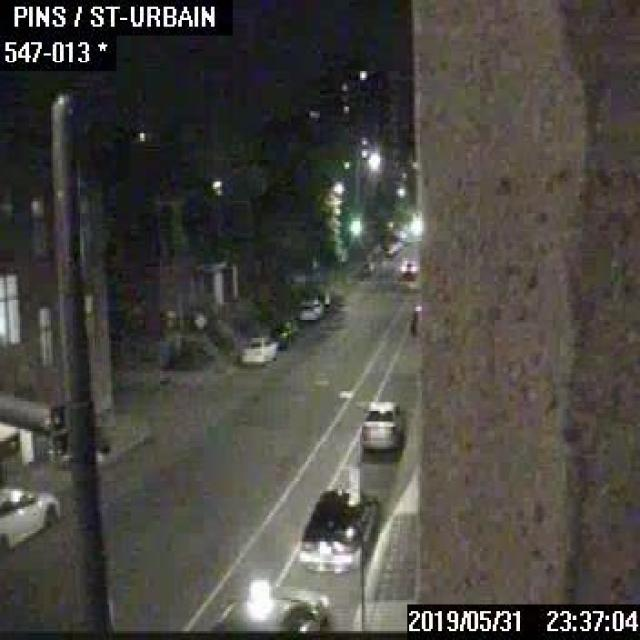vehicle: (296, 486, 380, 574), (213, 580, 330, 629), (0, 482, 60, 558), (356, 398, 406, 451), (235, 331, 278, 365), (266, 318, 297, 346), (296, 298, 324, 320), (408, 301, 421, 337), (400, 256, 414, 277)
